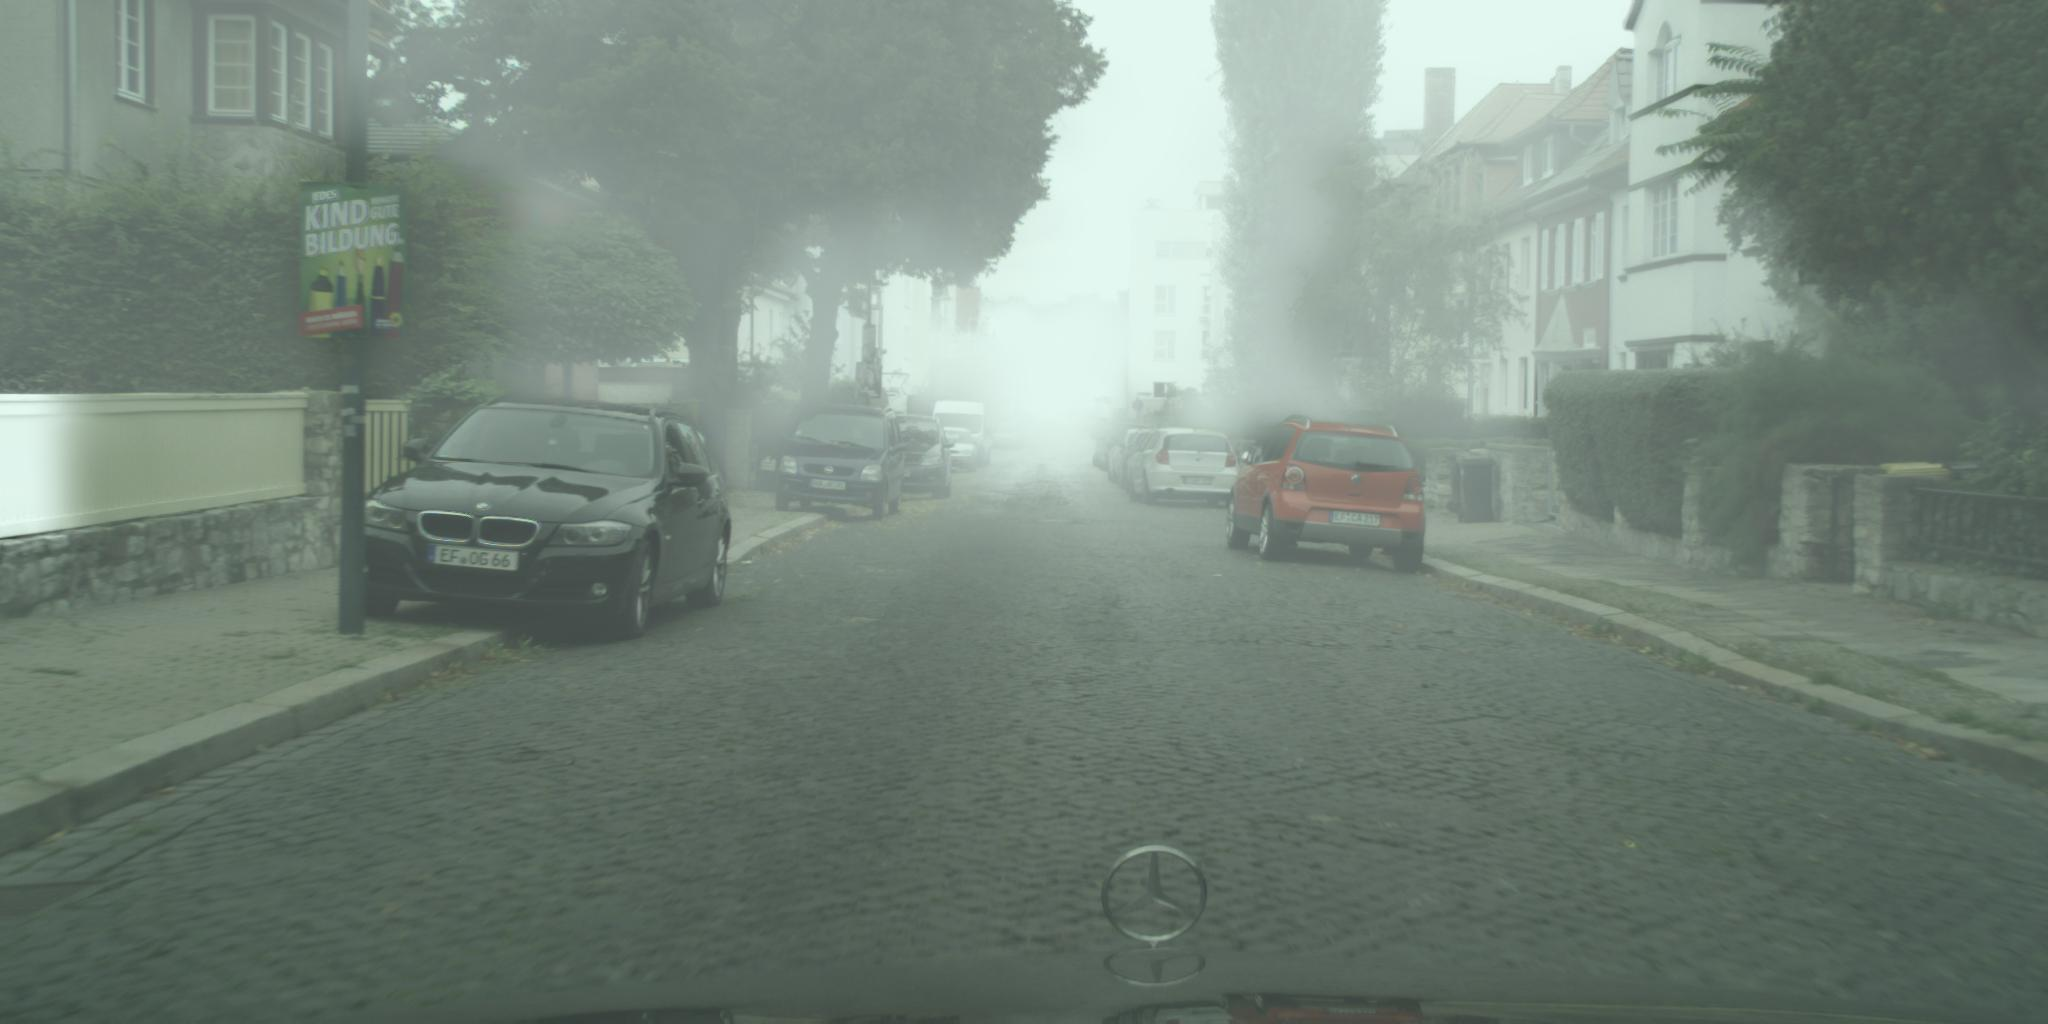car: (354, 394, 733, 644), (1226, 415, 1428, 575), (775, 401, 910, 521), (1128, 426, 1247, 509), (859, 415, 956, 500), (931, 398, 998, 470), (1093, 422, 1153, 474), (1105, 430, 1157, 486), (930, 427, 985, 475), (1121, 428, 1159, 496), (993, 424, 1025, 451), (1089, 421, 1115, 441), (1079, 414, 1100, 435), (1062, 409, 1081, 427)
